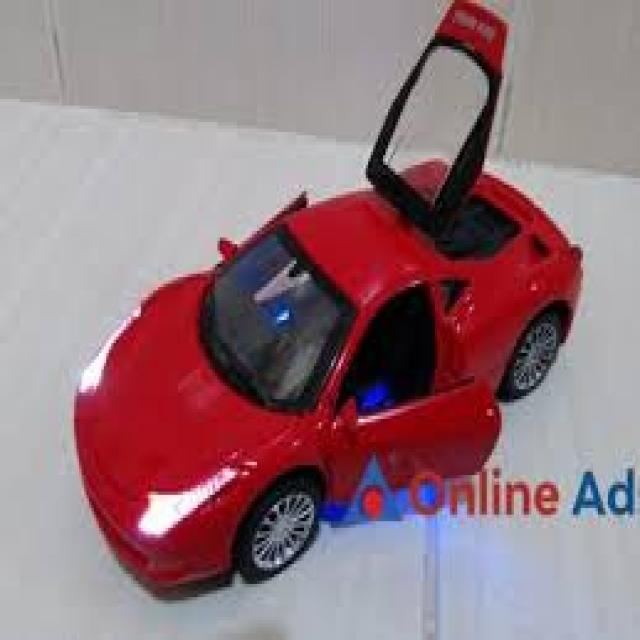Car: (69, 0, 583, 597)
